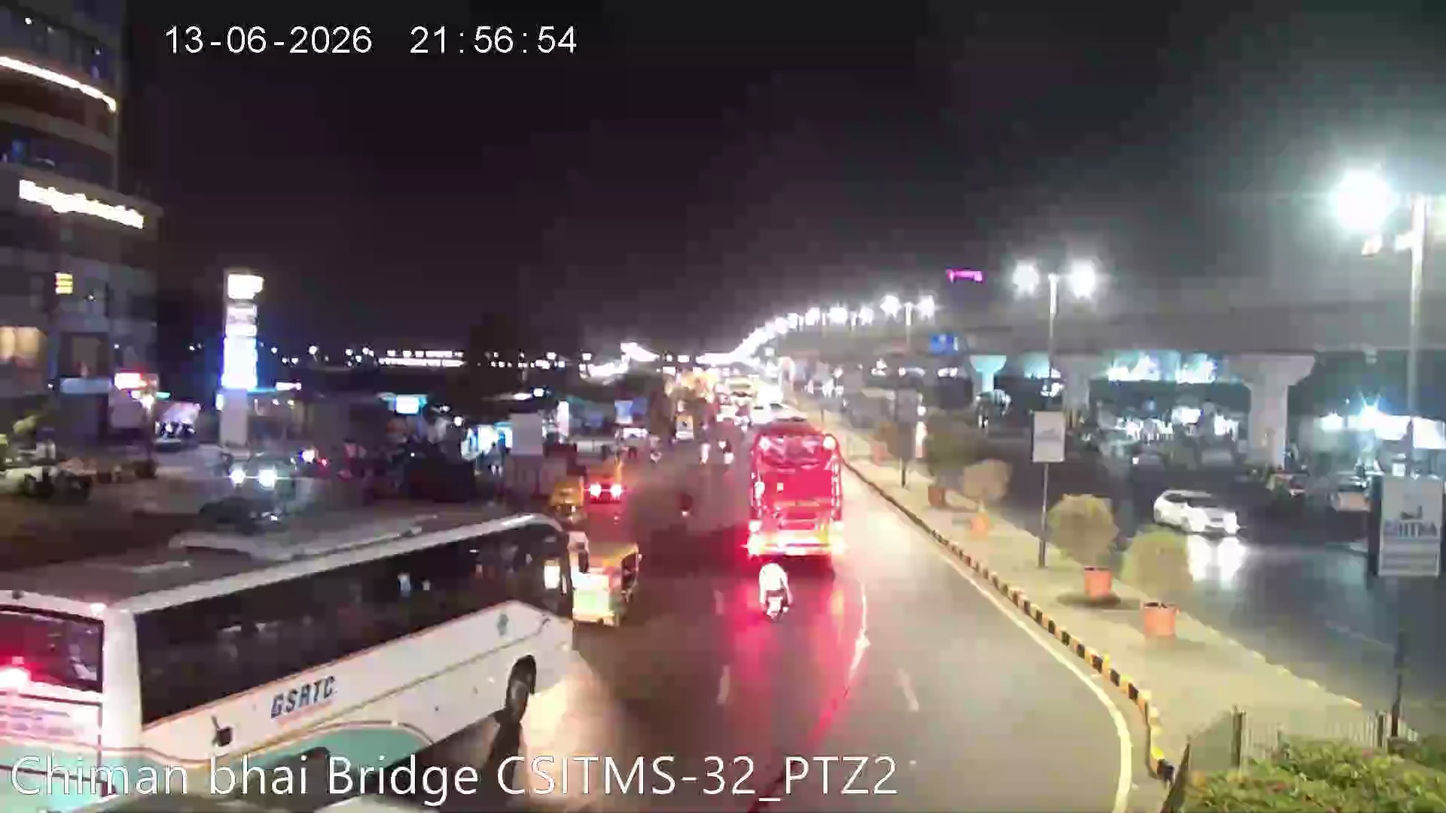auto_rickshaw: (577, 539, 647, 622)
bus: (0, 493, 598, 813), (747, 408, 847, 554)
car: (1151, 484, 1244, 542), (579, 460, 629, 502)
two_wheeler: (751, 559, 798, 623)
